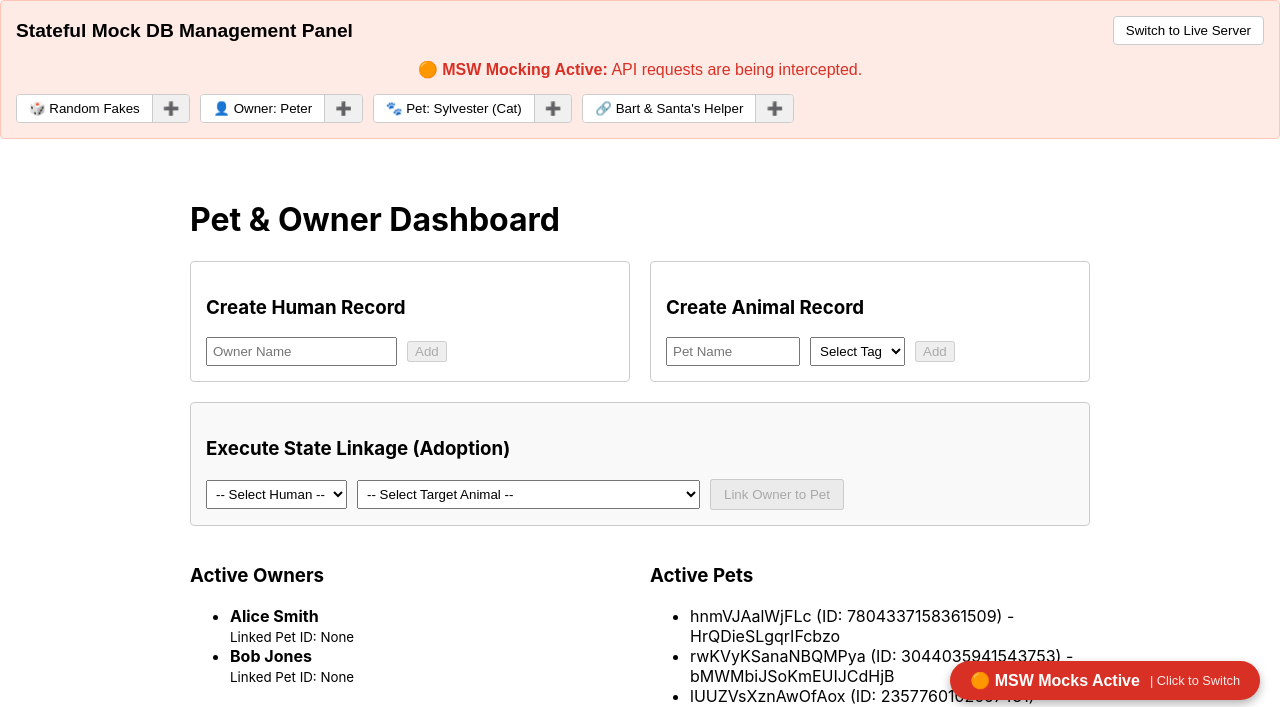
Test: Scenario Testing › 2 scenarios can be added together
Expected: the heading "Stateful Mock DB Management Panel" is shown, left=16, top=20, right=353, bottom=42
Click the button "👤 Owner: Peter" at (263, 109), box left=201, top=95, right=325, bottom=122
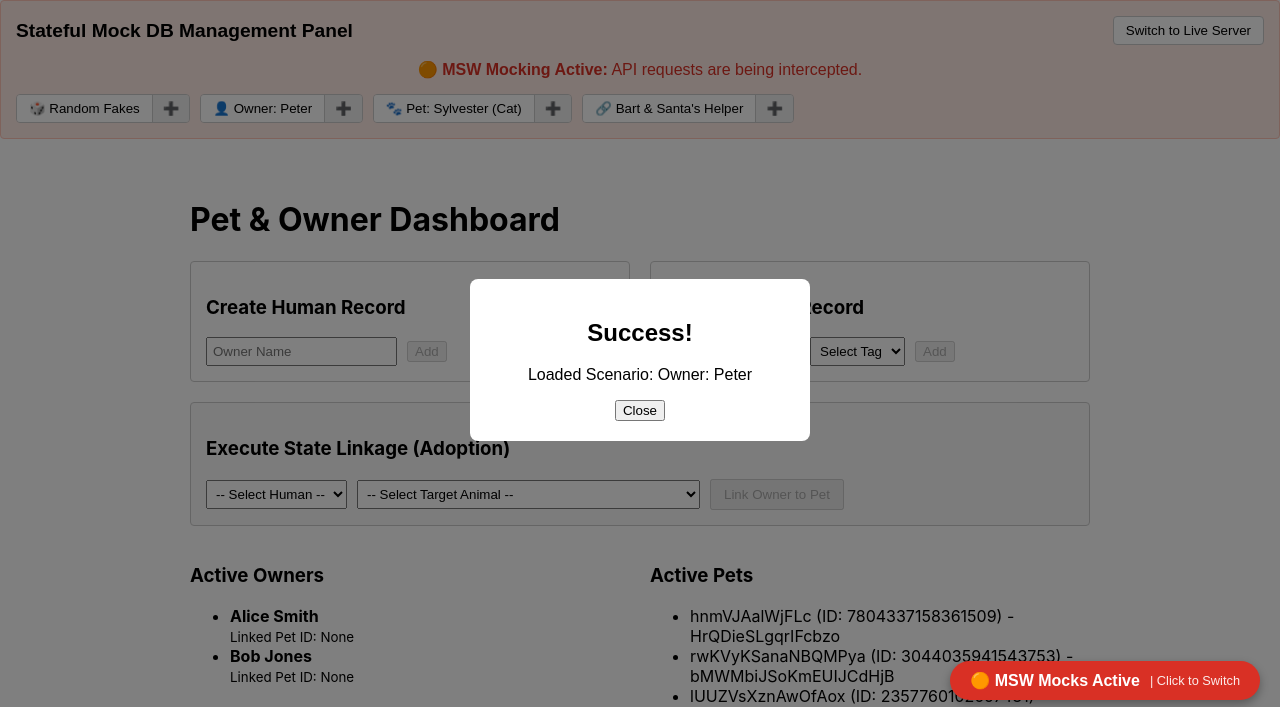
Result: the heading "Success!" is shown at left=587, top=318, right=693, bottom=346
Result: the text "Loaded Scenario: Owner: Peter" is shown at left=528, top=366, right=752, bottom=383
Click the button "Close" at (640, 411), box left=615, top=400, right=665, bottom=421
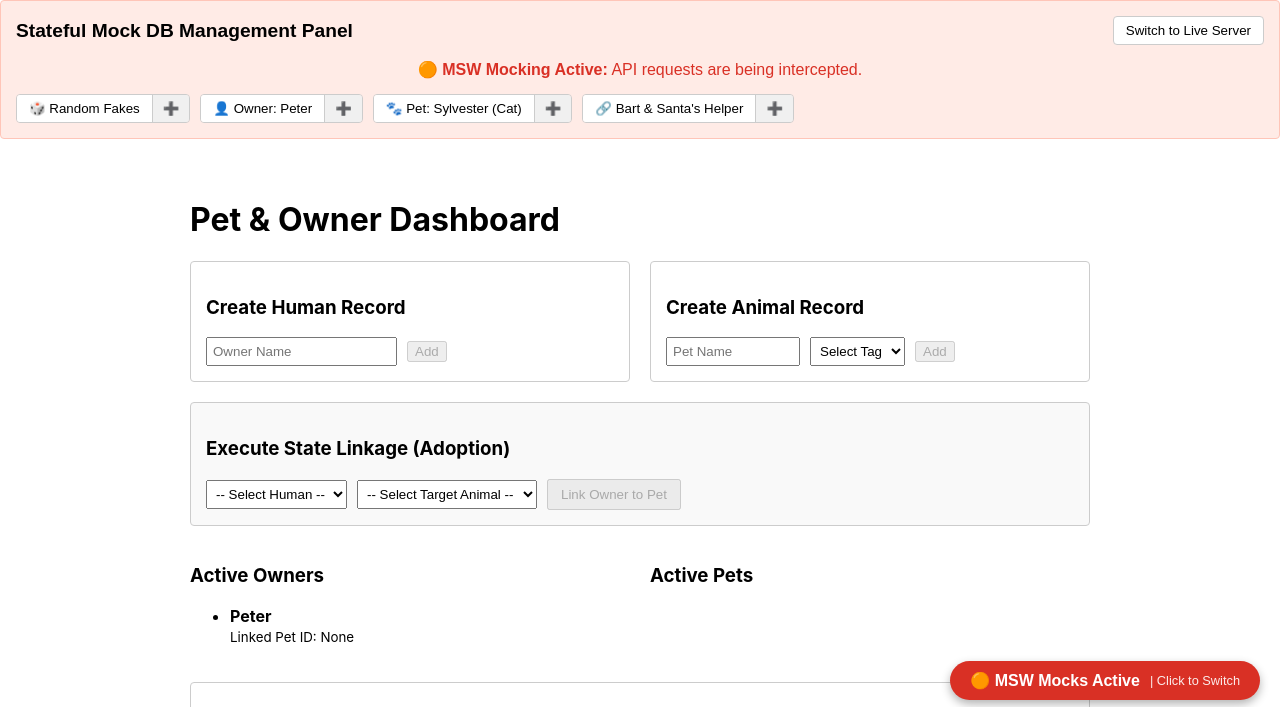
Result: the text "Peter" is shown at left=230, top=606, right=272, bottom=626
Click the 3rd button "➕" at (554, 109), box left=535, top=95, right=572, bottom=122
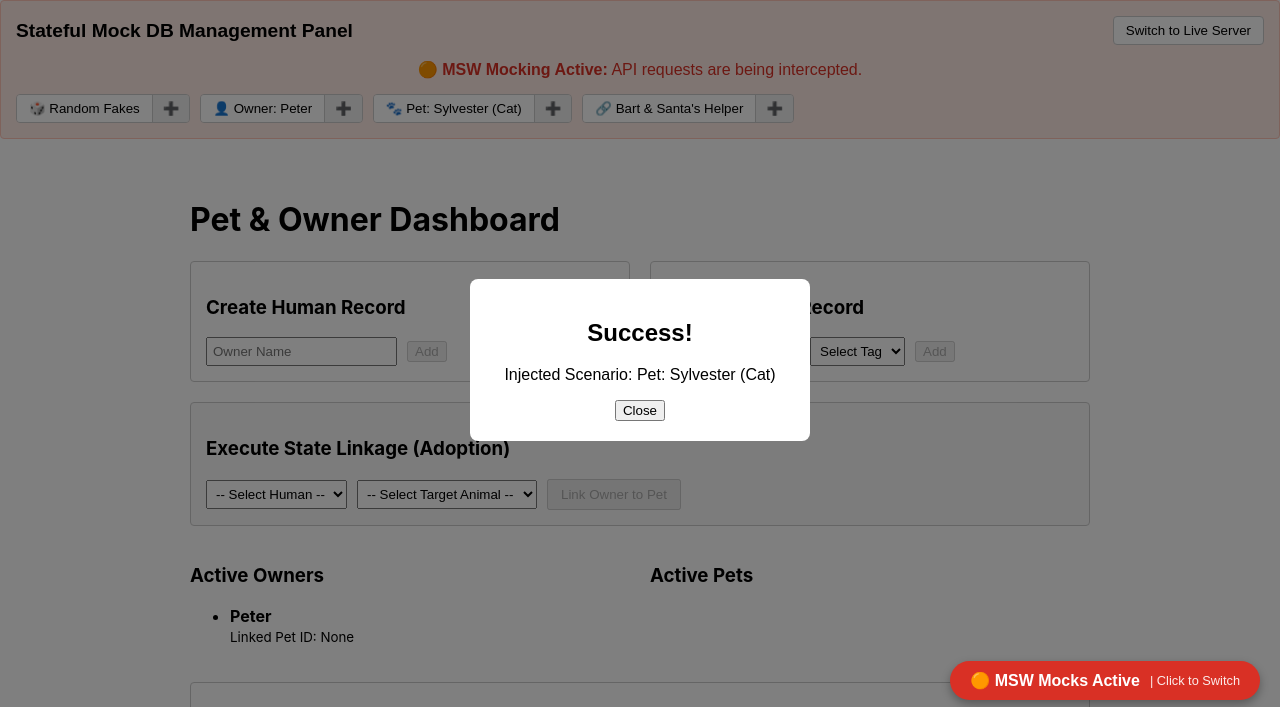
Result: the heading "Success!" is shown at left=587, top=318, right=693, bottom=346
Result: the text "Injected Scenario: Pet: Sylvester (Cat)" is shown at left=490, top=366, right=790, bottom=384
Click the button "Close" at (640, 411), box left=615, top=400, right=665, bottom=421
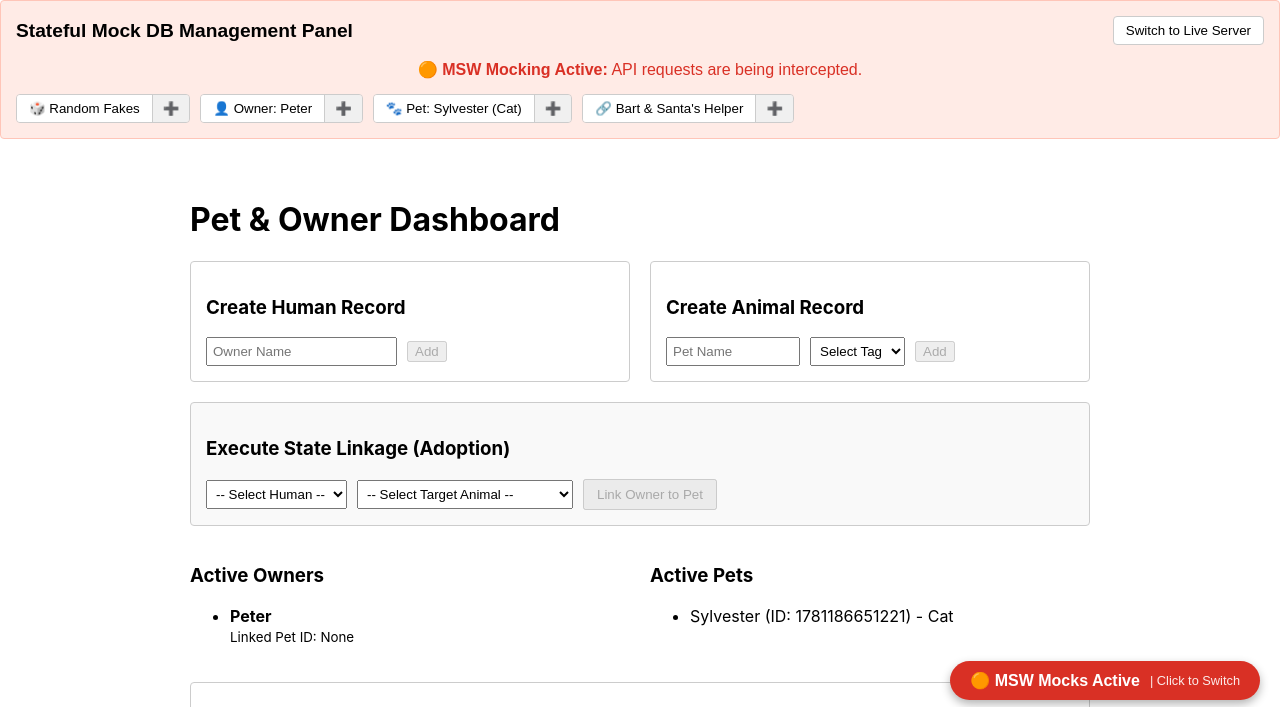
Result: the text "Peter" is shown at left=230, top=606, right=272, bottom=626
Result: the list item "Sylvester (ID: 1781186651221) - Cat" is shown at left=690, top=606, right=954, bottom=626
